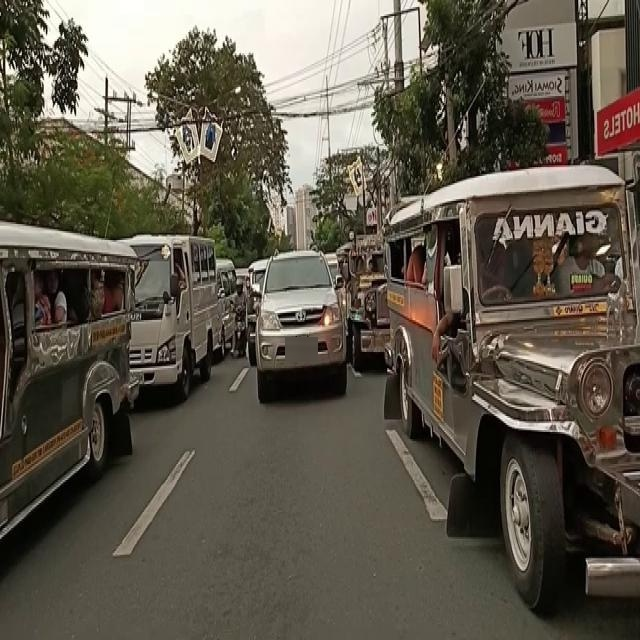car: (134, 250, 218, 397), (264, 243, 340, 397)
jeepney: (397, 200, 632, 552), (0, 248, 121, 539), (348, 226, 397, 391)
motorcycle: (220, 268, 248, 372)
